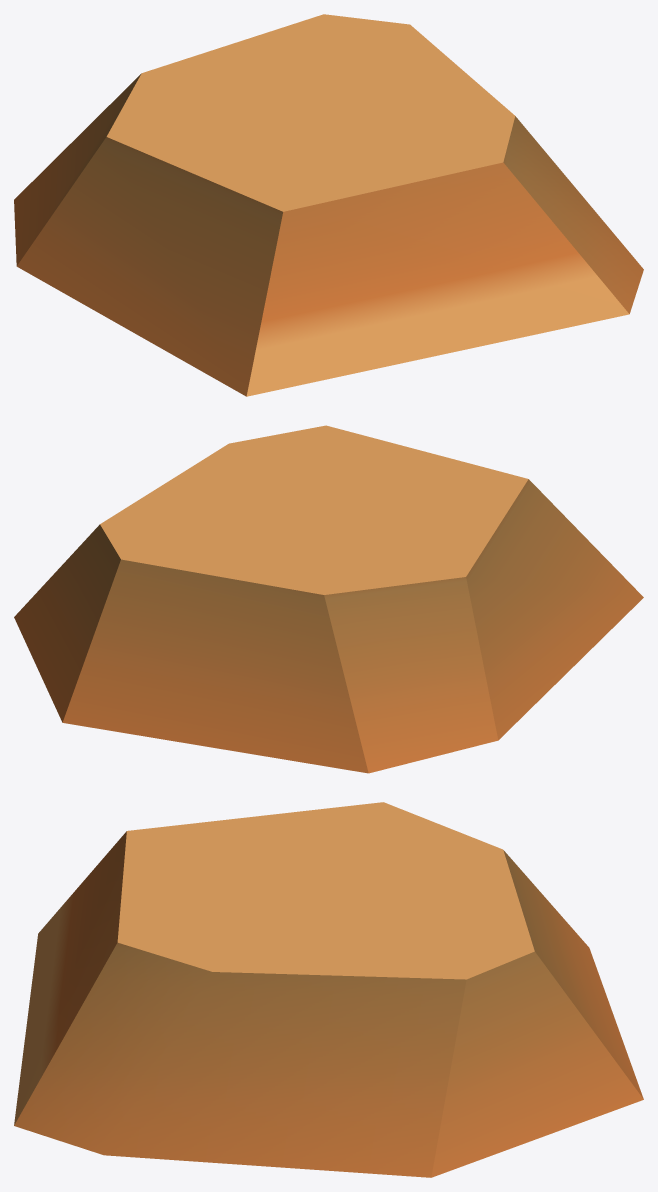
The model's file is desert-rock.obj.
3 renders of one model, top to bottom at view 1: azimuth 30°, elevation 25°; view 2: azimuth 150°, elevation 25°; view 3: azimuth 270°, elevation 25°, orthographic. The views are drawn at different scales.
Visible parts, largest first — view 1: desert-rock; view 2: desert-rock; view 3: desert-rock.
Boxes of the visible parts, x1,y1,x2,y2 form: desert-rock: (14,14,643,396); desert-rock: (14,425,643,773); desert-rock: (14,802,643,1177).
Bounding box in the file's own units: 7.05 × 1.78 × 7.1.
1 material, 1 textured.
